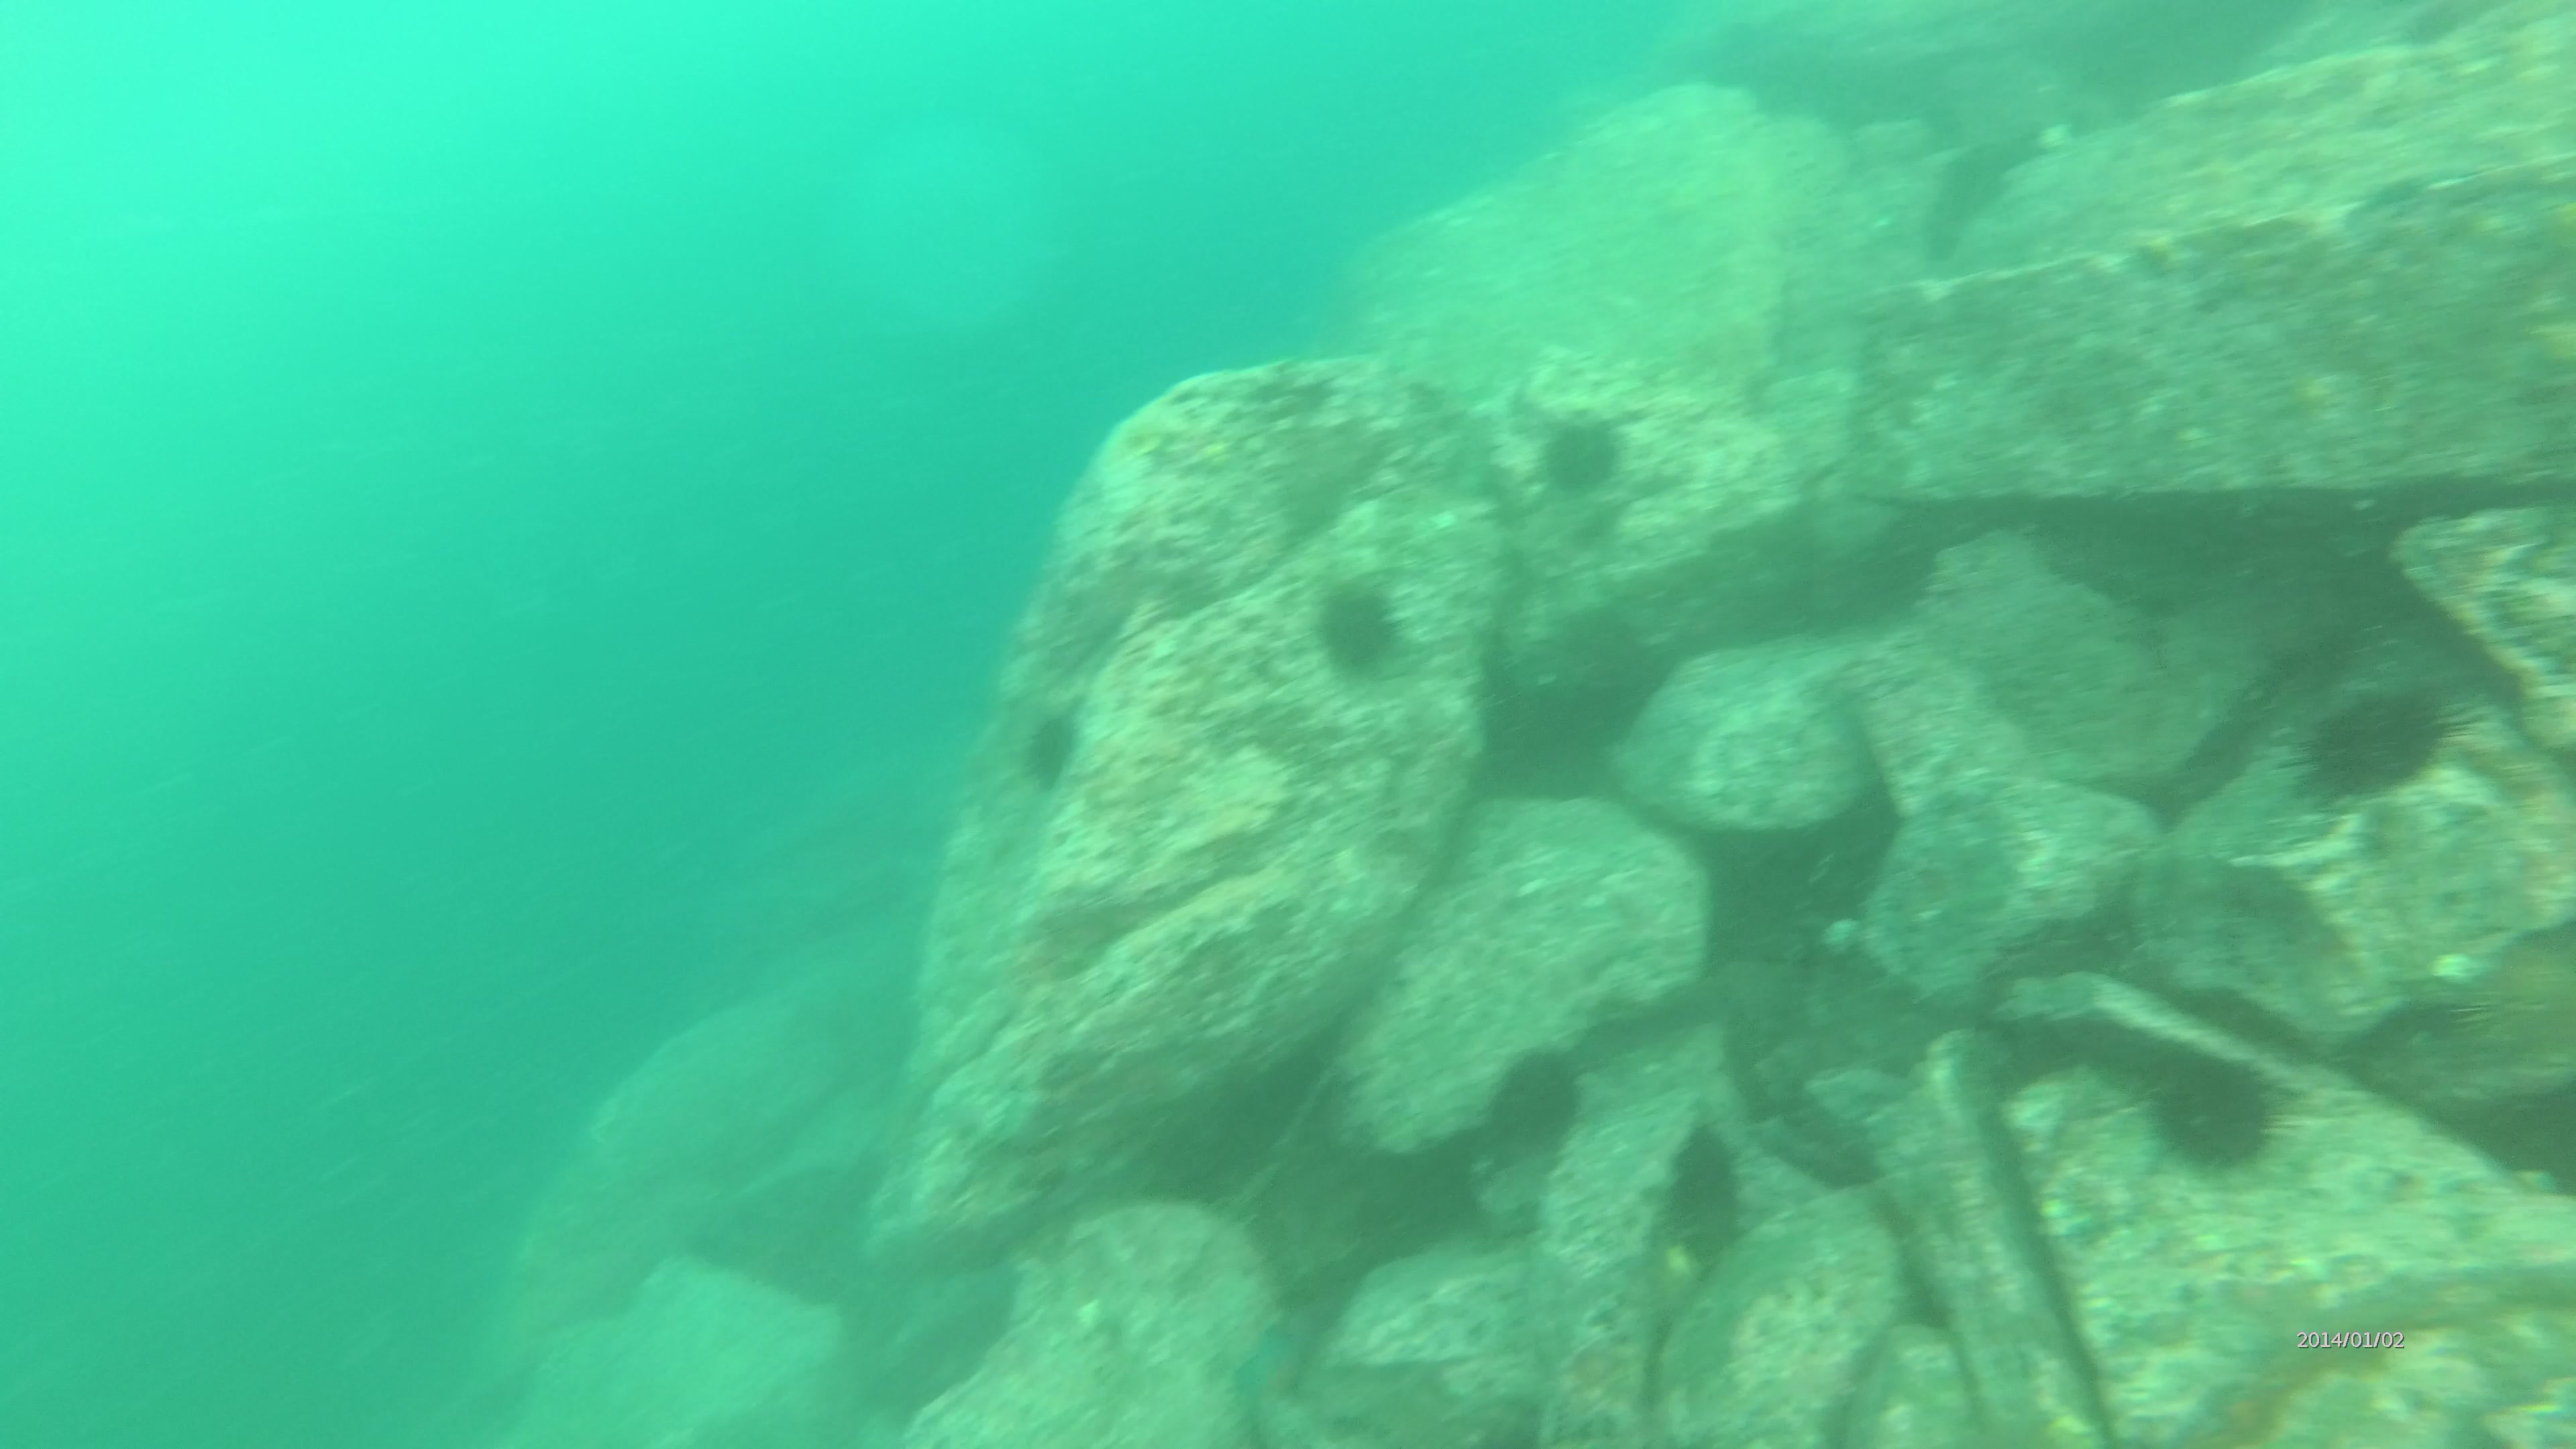echinus: (2288, 672, 2502, 817), (2438, 938, 2576, 1076), (2148, 1063, 2275, 1168), (1656, 1131, 1746, 1274), (1479, 1046, 1582, 1171), (1311, 582, 1405, 686), (1536, 410, 1622, 506), (1019, 706, 1081, 800)
